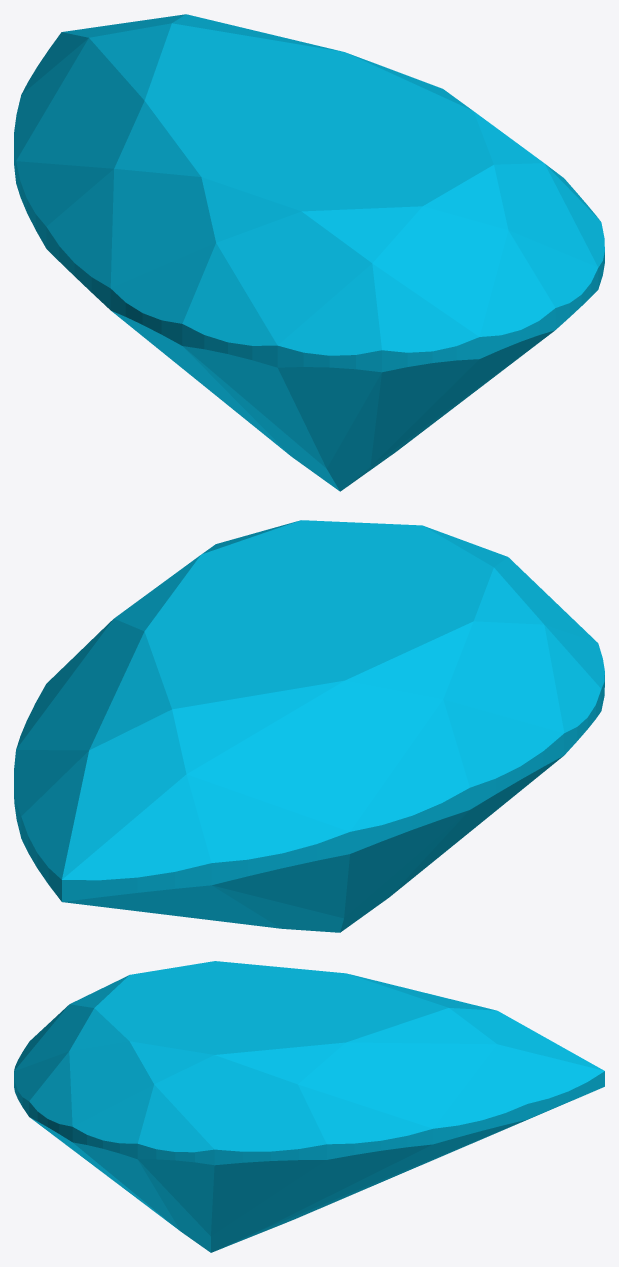
File: Head_No Halo_Pear_0.75ct_Diamond.glb
3 renders of one model, top to bottom at view 1: azimuth 30°, elevation 25°; view 2: azimuth 150°, elevation 25°; view 3: azimuth 270°, elevation 25°, orthographic. The views are drawn at different scales.
Bounding box in the file's own units: 0.00493 × 0.0036 × 0.00786.
